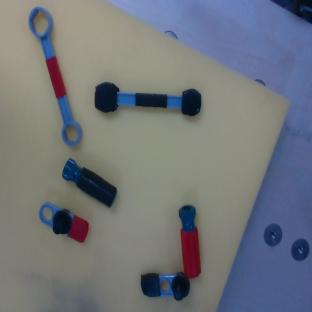part_1_bad: (141, 271, 190, 302)
part_1_good: (33, 200, 93, 245)
part_2_bad: (58, 157, 121, 208)
part_2_good: (178, 204, 201, 278)
part_3_bad: (94, 81, 202, 120)
part_3_good: (25, 4, 85, 149)
